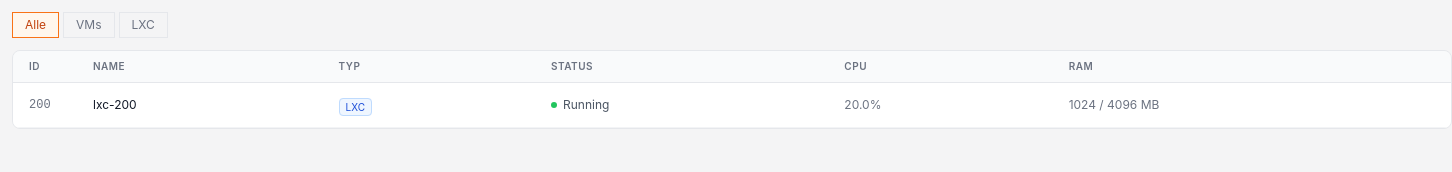
Scenario: ComputeVmSection › shows empty state when VM filter but no VMs
Click the button "VMs".
click(89, 25)  # box [63, 12, 115, 38]
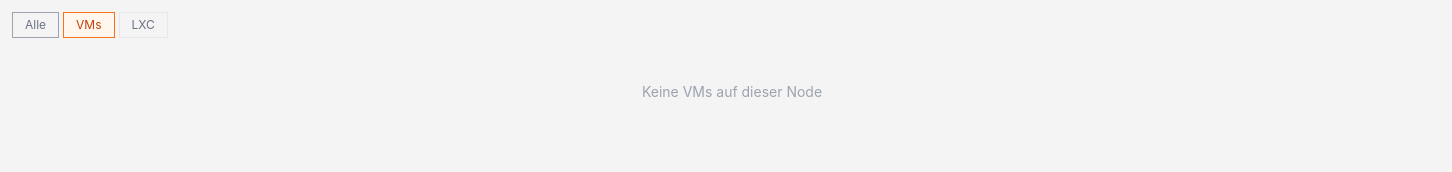
Result: the text "Keine VMs auf dieser Node" is shown at [642, 83, 822, 100]
